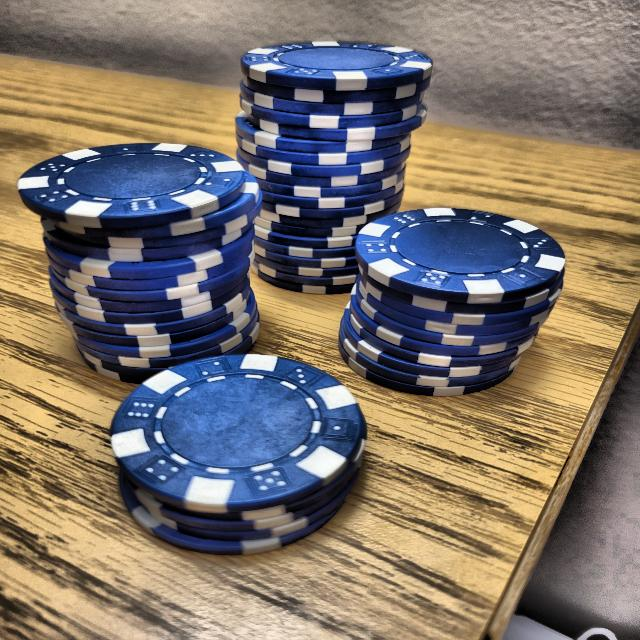Chip: (75, 335, 388, 572), (15, 126, 286, 378), (216, 29, 436, 317), (332, 180, 576, 418)
